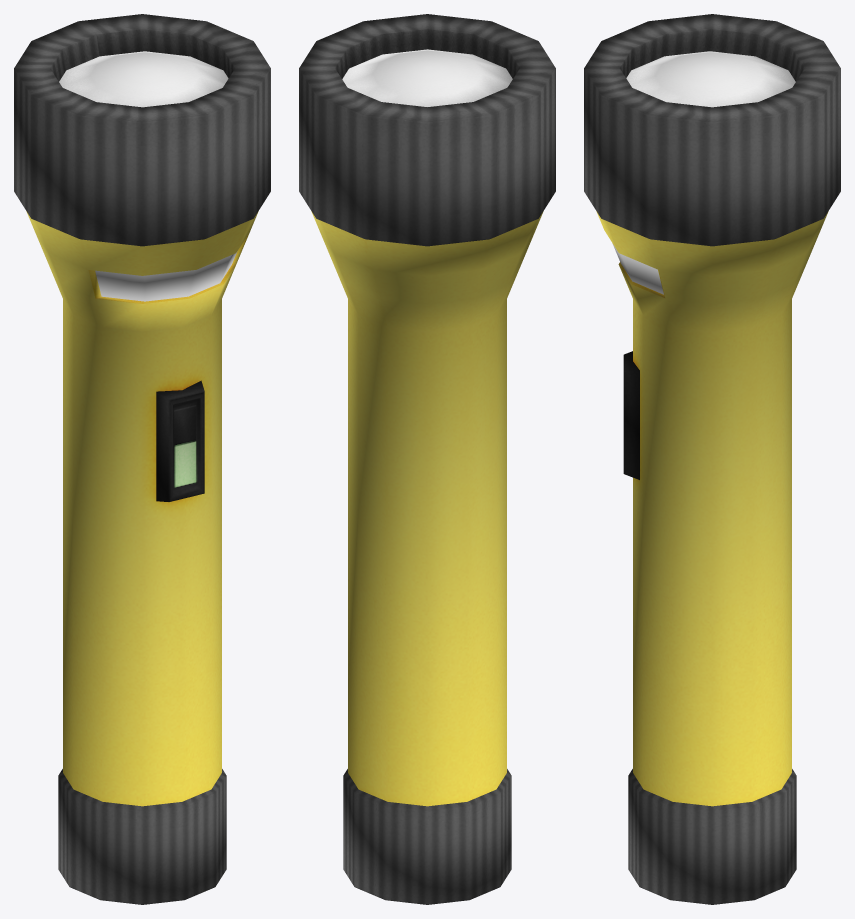
Rendered from Flashlight.fbx.
3 renders of one model, left to right at view 1: azimuth 30°, elevation 25°; view 2: azimuth 150°, elevation 25°; view 3: azimuth 270°, elevation 25°, orthographic.
Visible parts, largest first — view 1: Flashlight_Lowz; view 2: Flashlight_Lowz; view 3: Flashlight_Lowz.
Boxes of the visible parts, x1=… form: Flashlight_Lowz: x1=14, y1=14, x2=270, y2=904; Flashlight_Lowz: x1=299, y1=14, x2=555, y2=904; Flashlight_Lowz: x1=584, y1=14, x2=840, y2=904.
Size of the model in its own units: 12.21 by 42.14 by 12.21.
